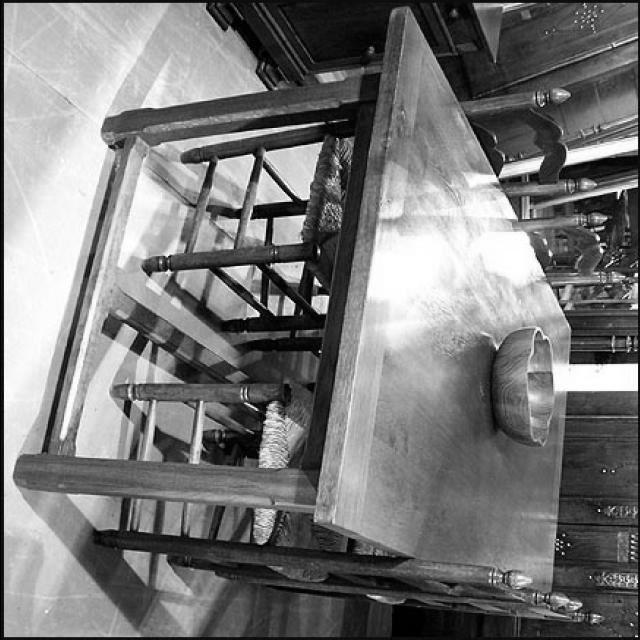chair: (103, 369, 594, 639), (144, 59, 594, 327)
table: (14, 11, 574, 606)
